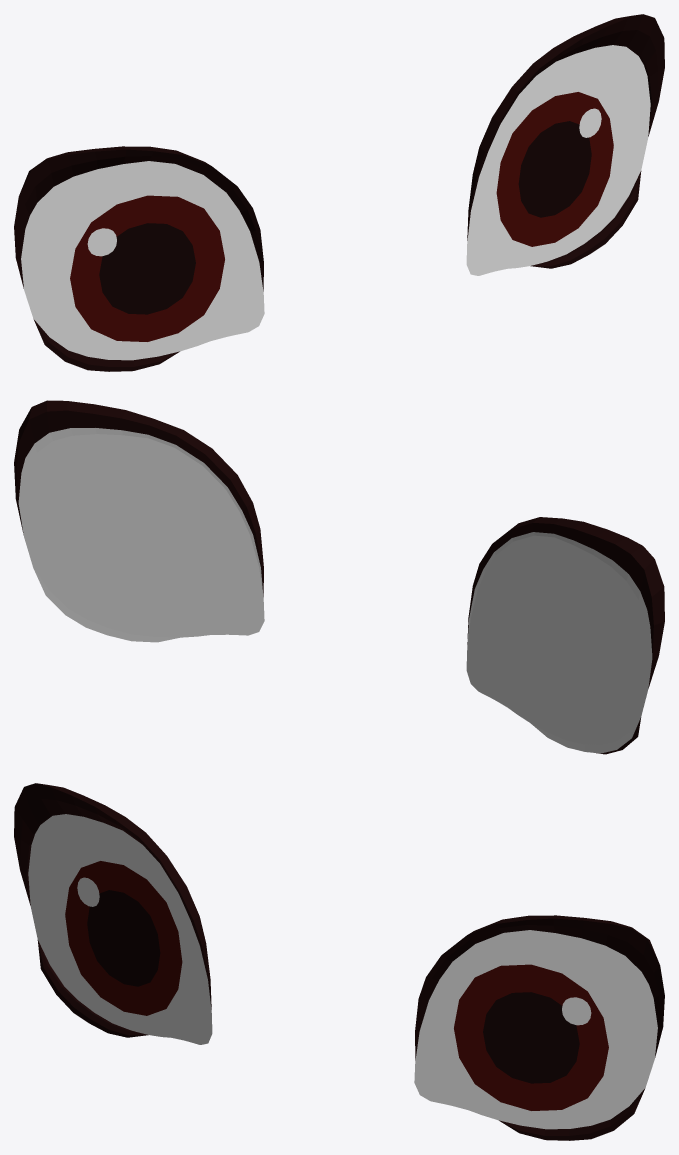
File: eyes_huge.glb
3 renders of one model, top to bottom at view 1: azimuth 30°, elevation 25°; view 2: azimuth 150°, elevation 25°; view 3: azimuth 330°, elevation 25°, orthographic.
Parts seen in each view (by area): view 1: Crazy Round; view 2: Crazy Round; view 3: Crazy Round.
Part boxes in pixels (<box>): Crazy Round: <box>14,14,664,371</box>; Crazy Round: <box>14,400,664,754</box>; Crazy Round: <box>14,783,664,1140</box>.
Size of the model in its own units: 0.2383 by 0.0797 by 0.0215.
